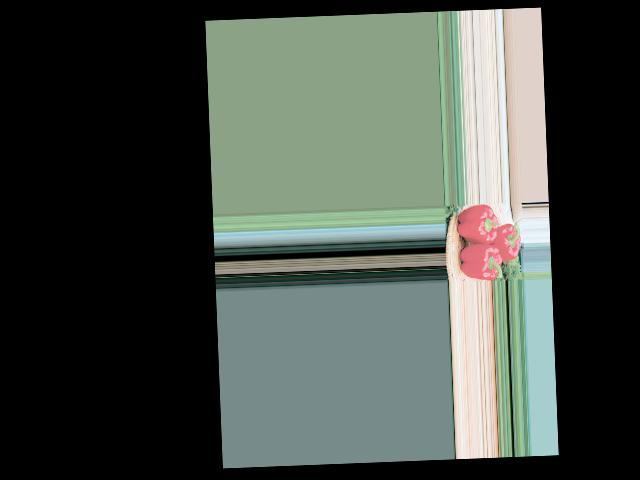bell_pepper: (454, 237, 503, 281)
